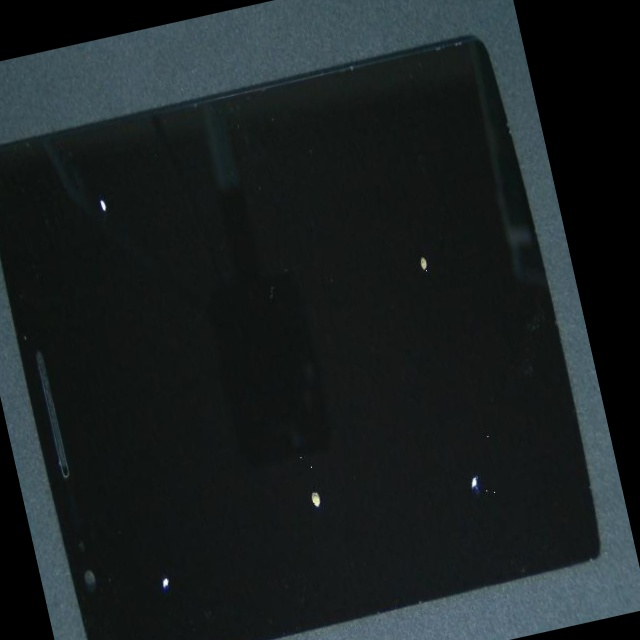stain: (172, 217, 640, 640), (181, 38, 590, 421), (103, 237, 485, 640), (32, 297, 233, 640), (0, 89, 172, 322)
